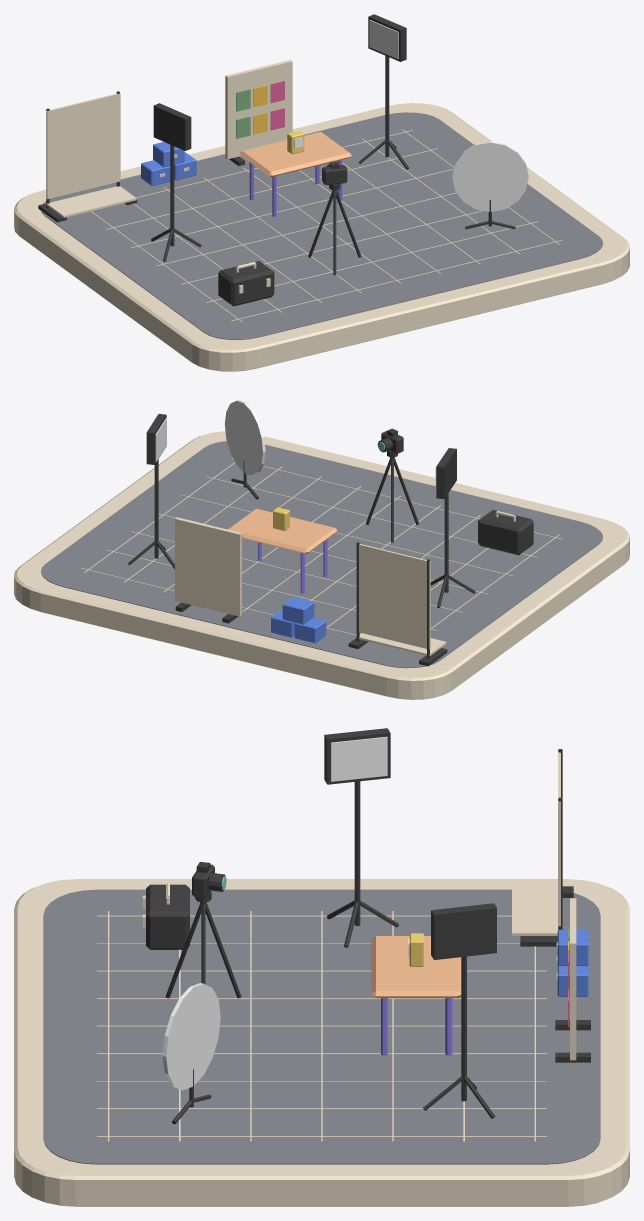
File: room.fbx
3 views of the same model, one above another, from view 1: azimuth 30°, elevation 25°; view 2: azimuth 150°, elevation 25°; view 3: azimuth 270°, elevation 25° (orthographic). The views are drawn at different scales.
Parts seen in each view (by area): view 1: COM-02 Floor Surface, COM-01 Rounded Base Direct, Seamless backdrop, Reflector, Panel, Rounded table top, Case, Backdrop sweep, Light panel, Diffuser.001, Light panel.001, Stacked case (+1 smaller); view 2: COM-02 Floor Surface, COM-01 Rounded Base Direct, Seamless backdrop, Panel, Rounded table top, Reflector, Case, Light panel, Stacked case.002, Backdrop sweep, Stacked case, Light panel.001 (+3 smaller); view 3: COM-02 Floor Surface, COM-01 Rounded Base Direct, Reflector, Rounded table top, Light panel.001, Case, Backdrop sweep, Diffuser, Light panel, Panel, Pole, Stacked case.002 (+7 smaller).
Boxes of the visible parts, x1,y1,x2,y2 form: COM-02 Floor Surface: (41, 112, 602, 339); COM-01 Rounded Base Direct: (14, 103, 629, 371); Seamless backdrop: (46, 93, 120, 199); Reflector: (452, 141, 528, 211); Panel: (225, 60, 292, 159); Rounded table top: (240, 131, 351, 177); Case: (218, 261, 274, 306); Backdrop sweep: (46, 186, 136, 217); Light panel: (153, 103, 191, 150); Diffuser.001: (369, 20, 398, 59); Light panel.001: (368, 14, 406, 61); Stacked case: (141, 160, 170, 185); COM-02 Floor Surface: (41, 441, 602, 668); COM-01 Rounded Base Direct: (14, 431, 629, 699); Seamless backdrop: (359, 544, 430, 649); Panel: (175, 517, 241, 616); Rounded table top: (228, 508, 337, 553); Reflector: (224, 400, 265, 475); Case: (478, 510, 533, 555); Light panel: (436, 448, 456, 498); Stacked case.002: (282, 597, 314, 624); Backdrop sweep: (359, 633, 446, 656); Stacked case: (294, 617, 326, 643); Light panel.001: (146, 414, 166, 464); COM-02 Floor Surface: (43, 889, 600, 1164); COM-01 Rounded Base Direct: (14, 879, 629, 1206); Reflector: (162, 983, 220, 1090); Rounded table top: (371, 936, 461, 998); Light panel.001: (431, 903, 496, 959); Case: (146, 884, 189, 949); Backdrop sweep: (512, 882, 558, 935); Diffuser: (331, 736, 387, 781); Light panel: (324, 728, 390, 784); Panel: (570, 898, 576, 1060); Pole: (354, 781, 360, 925); Stacked case.002: (557, 929, 588, 965).
Bounding box in the file's own units: 600 × 214 × 520.
